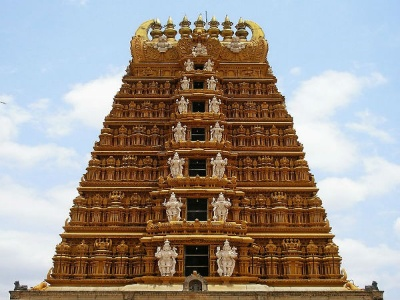gopura: (62, 48, 355, 274)
